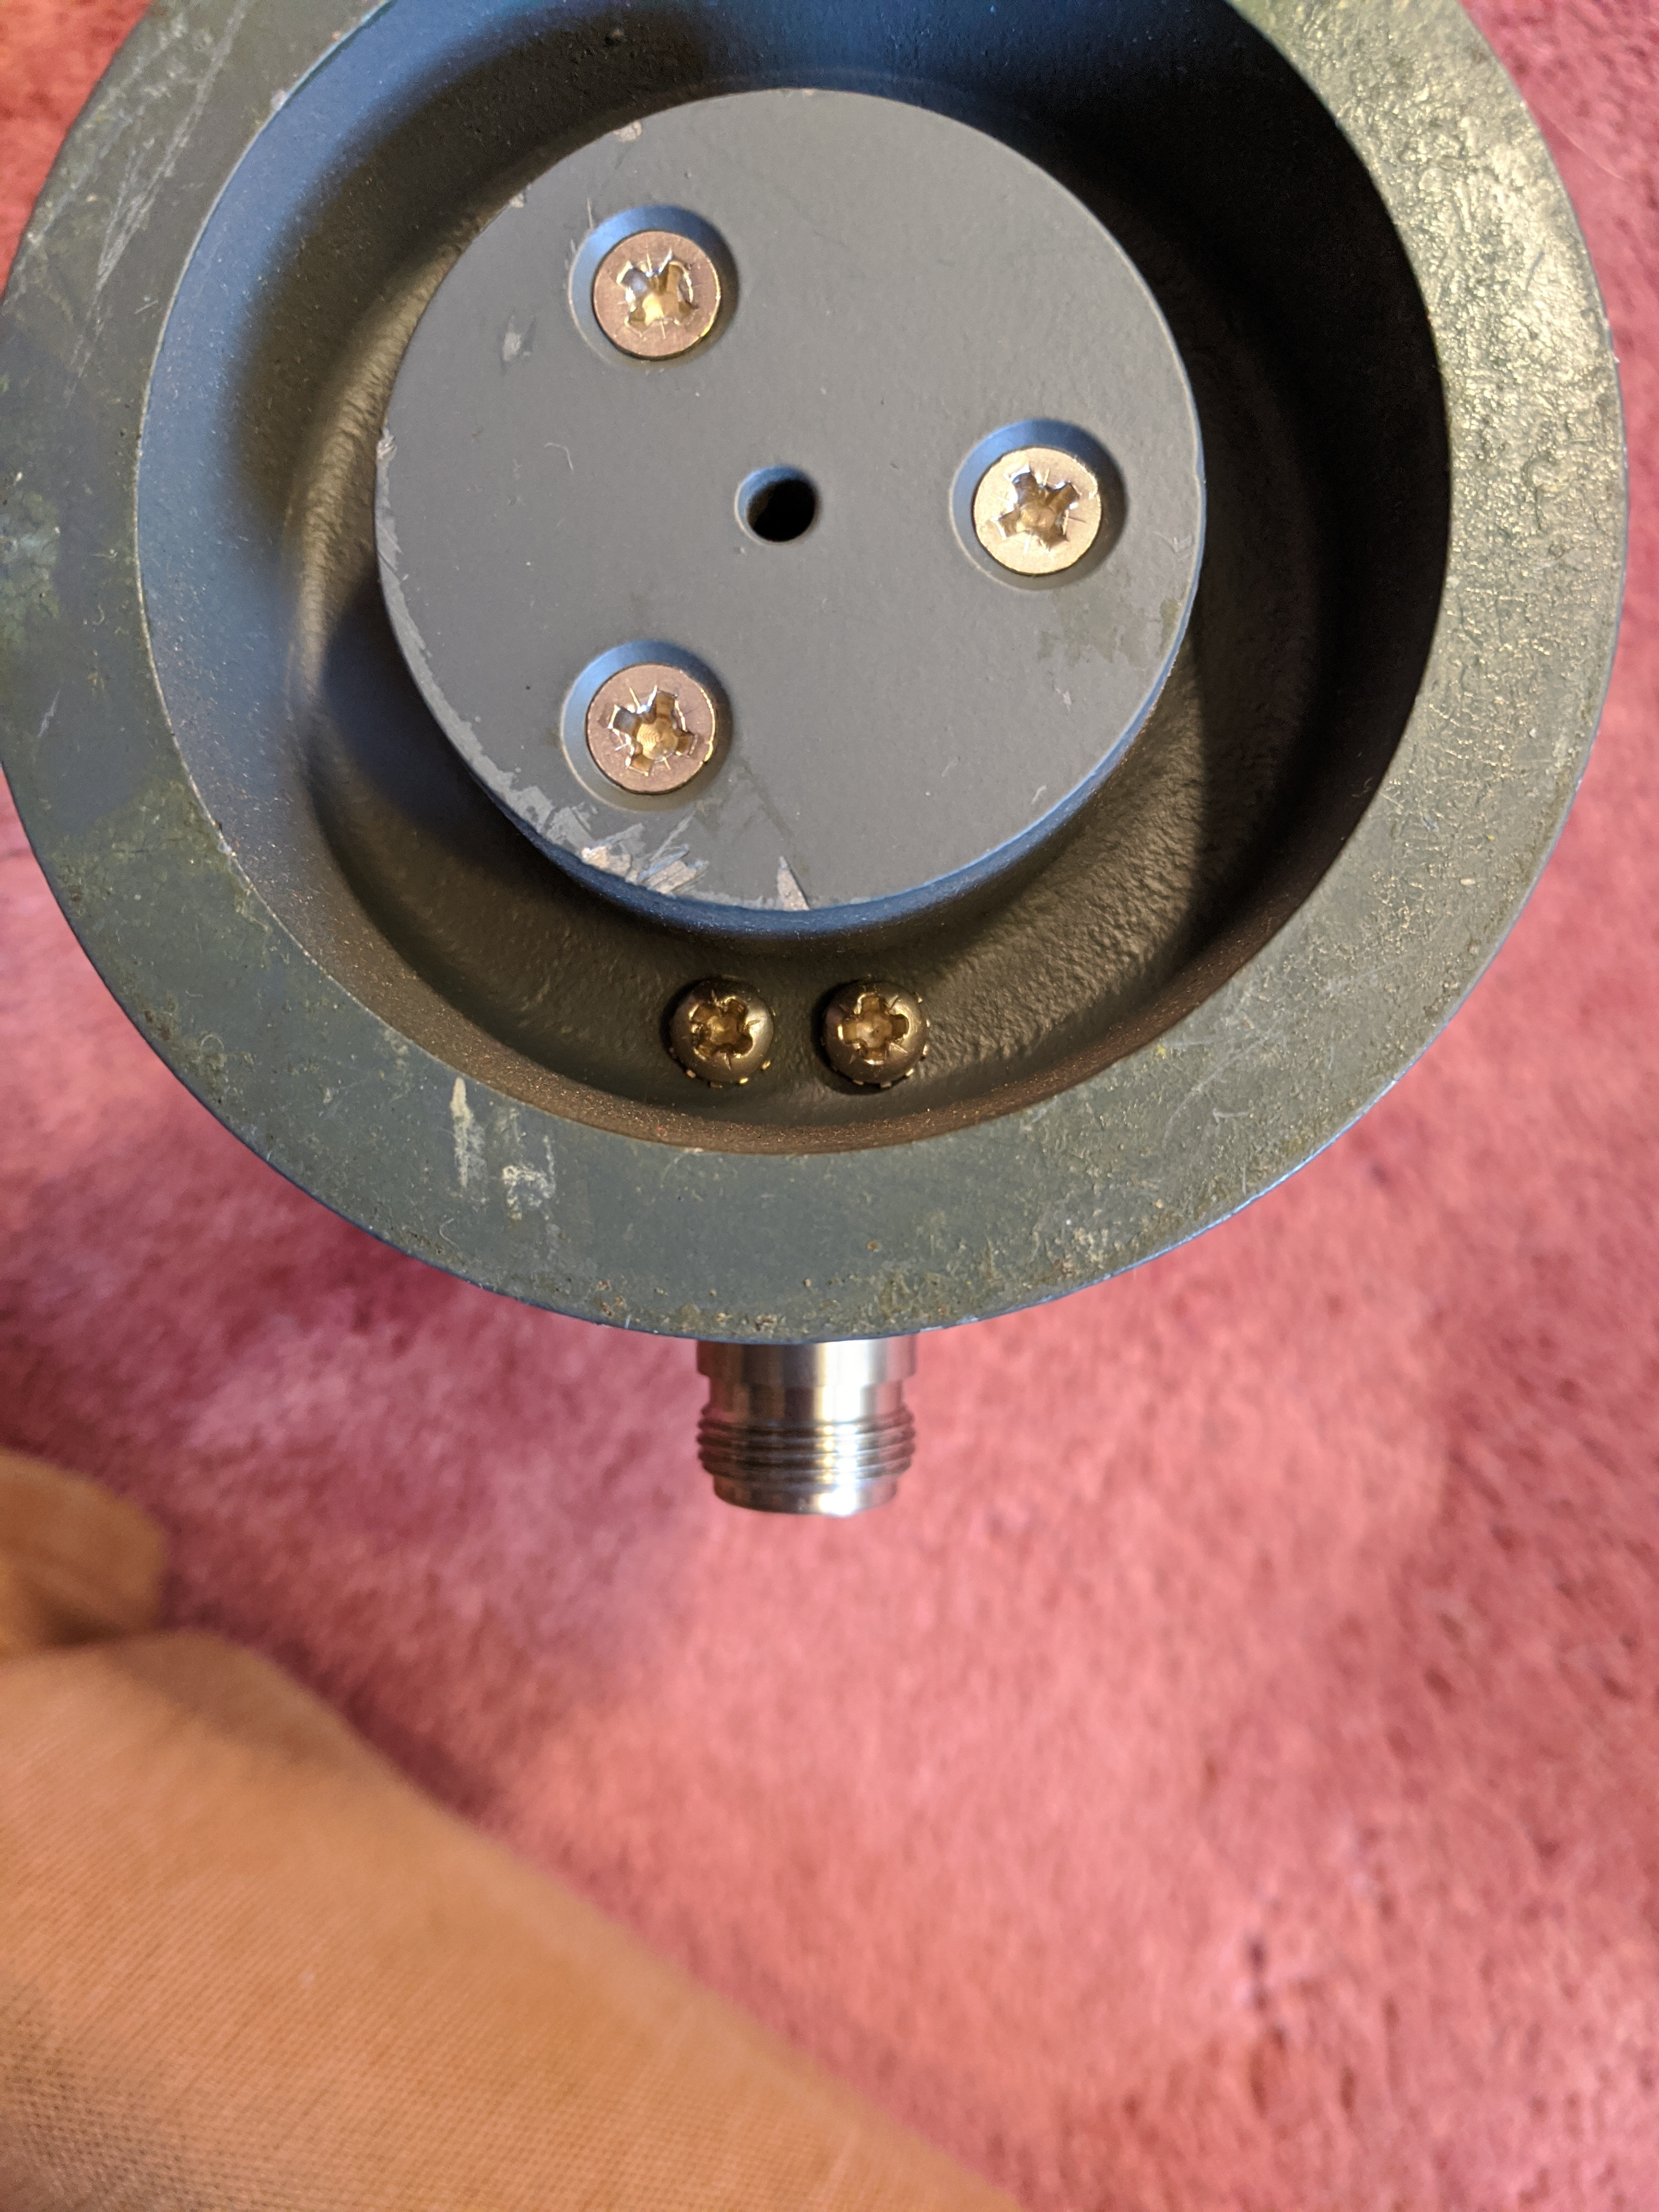cross_recessed_screw: (570, 646, 730, 805), (579, 204, 720, 355), (967, 421, 1103, 570), (814, 960, 932, 1078), (662, 963, 777, 1083)
